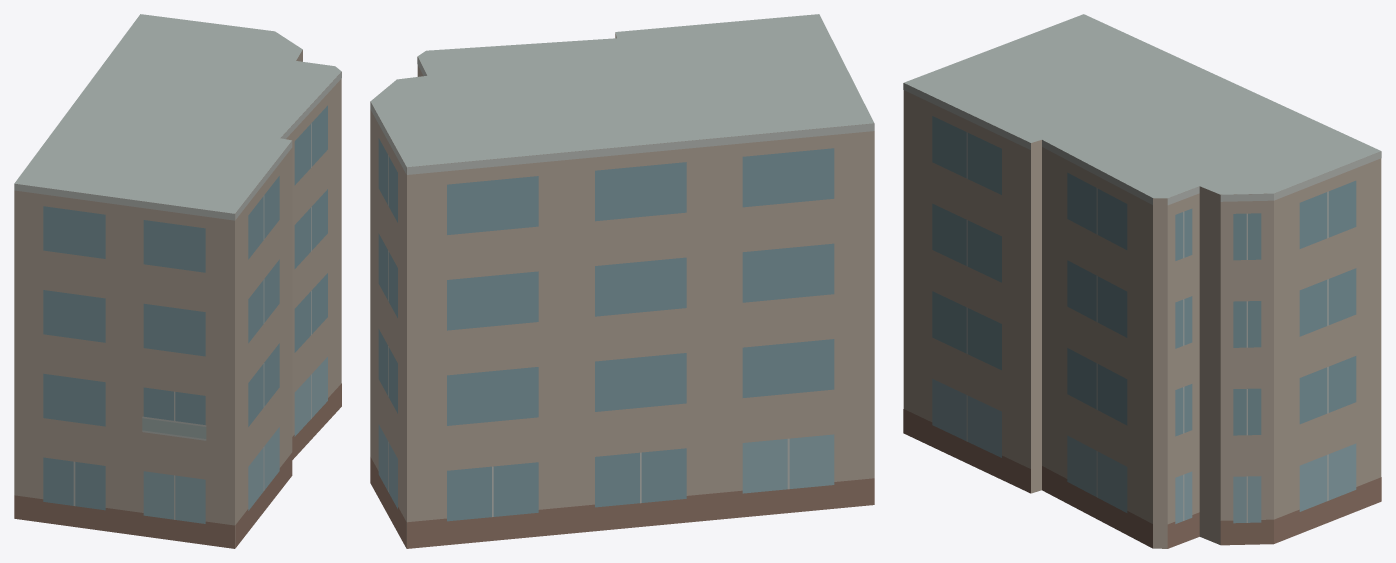
The model's file is survey-upis-32979475.glb.
The picture shows the model from 3 angles, left to right: view 1: azimuth 30°, elevation 25°; view 2: azimuth 150°, elevation 25°; view 3: azimuth 270°, elevation 25°; orthographic projection. The views are drawn at different scales.
Parts seen in each view (by area): view 1: survey-upis-32979475.tmp; view 2: survey-upis-32979475.tmp; view 3: survey-upis-32979475.tmp.
Boxes of the visible parts, left/top/right/bottom form: survey-upis-32979475.tmp: left=14, top=14, right=341, bottom=548; survey-upis-32979475.tmp: left=370, top=14, right=874, bottom=548; survey-upis-32979475.tmp: left=903, top=14, right=1381, bottom=548.
Size of the model in its own units: 13.55 by 12 by 14.84.
